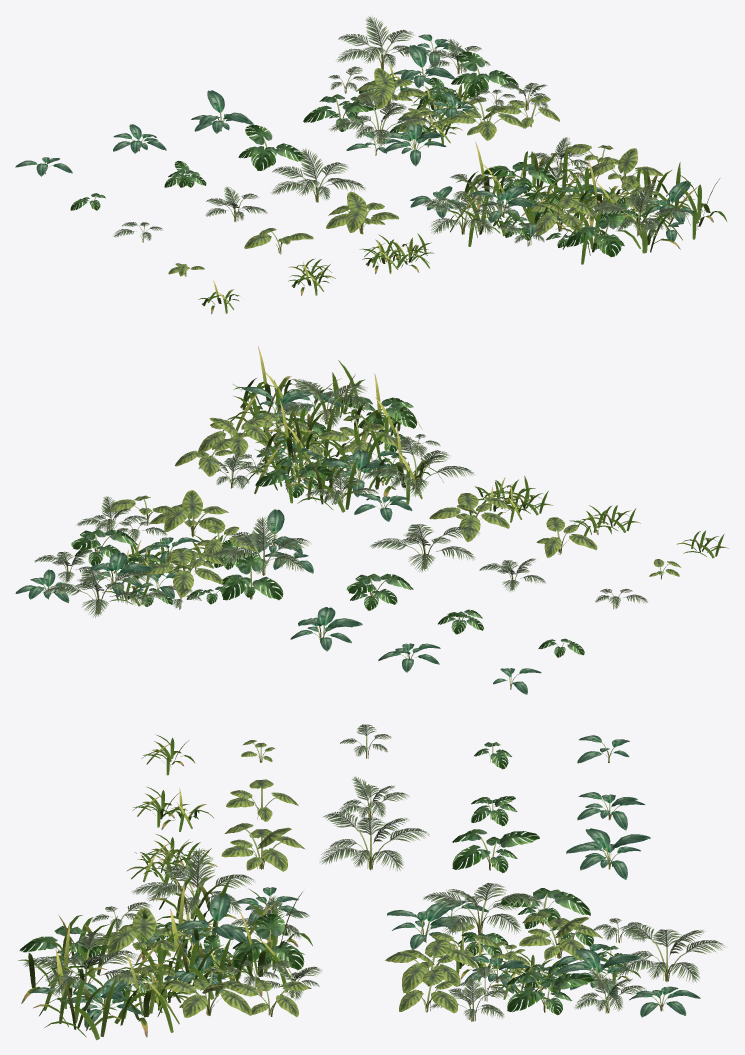
File: Plants.fbx
The picture shows the model from 3 angles, top to bottom: view 1: azimuth 30°, elevation 25°; view 2: azimuth 150°, elevation 25°; view 3: azimuth 270°, elevation 25°; orthographic projection. The views are drawn at different scales.
Parts seen in each view (by area): view 1: leaves.015, leaves.021, leaves.004, leaves.003, leaves.007, leaves.013, leaves.005, leaves.009, leaves, leaves.002, leaves.011, leaves.014; view 2: leaves.015, leaves.021, leaves.004, leaves.003, leaves.007, leaves.013, leaves.005, leaves.011, leaves.009, leaves.014, leaves, leaves.002; view 3: leaves.015, leaves.021, leaves.004, leaves.003, leaves.007, leaves.005, leaves.013, leaves.009, leaves, leaves.011, leaves.014, leaves.002 (+2 smaller).
Part boxes in pixels (<box>): leaves.015: <box>410,137,727,264</box>; leaves.021: <box>303,15,559,166</box>; leaves.004: <box>270,148,365,202</box>; leaves.003: <box>326,191,398,234</box>; leaves.007: <box>238,125,304,170</box>; leaves.013: <box>359,233,434,274</box>; leaves.005: <box>191,90,253,133</box>; leaves.009: <box>205,187,267,221</box>; leaves: <box>113,124,166,153</box>; leaves.002: <box>164,161,206,187</box>; leaves.011: <box>244,228,313,254</box>; leaves.014: <box>288,258,335,295</box>; leaves.015: <box>175,346,474,521</box>; leaves.021: <box>15,490,313,617</box>; leaves.004: <box>370,523,479,572</box>; leaves.003: <box>429,493,513,541</box>; leaves.007: <box>346,573,413,610</box>; leaves.013: <box>474,476,552,522</box>; leaves.005: <box>290,607,362,651</box>; leaves.011: <box>536,517,597,557</box>; leaves.009: <box>479,558,546,592</box>; leaves.014: <box>569,505,640,536</box>; leaves: <box>378,643,440,672</box>; leaves.002: <box>438,609,483,634</box>; leaves.015: <box>18,848,321,1040</box>; leaves.021: <box>385,883,726,1021</box>; leaves.004: <box>319,811,429,871</box>; leaves.003: <box>221,823,304,871</box>; leaves.007: <box>452,829,539,872</box>; leaves.005: <box>566,828,650,879</box>; leaves.013: <box>126,834,217,887</box>; leaves.009: <box>338,776,409,819</box>; leaves: <box>577,792,645,830</box>; leaves.011: <box>226,779,298,821</box>; leaves.014: <box>132,786,213,831</box>; leaves.002: <box>471,796,517,826</box>.
Size of the model in its own units: 1202 by 119 by 1225.
